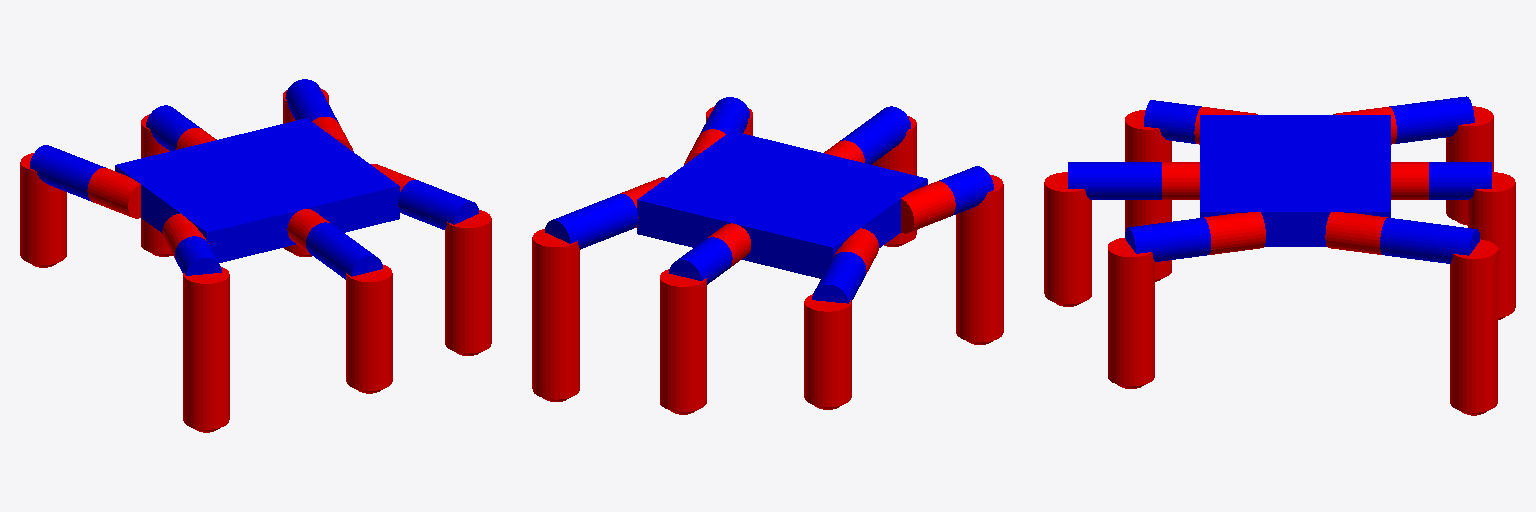
--- What the picture shows (computed from the rendered views, not written in the file) ---
3 views of the same robot in one strip: view 1: azimuth 30°, elevation 25°; view 2: azimuth 150°, elevation 25°; view 3: azimuth 270°, elevation 25° (orthographic).
Robot: pexod — 19 links, 18 joints (18 revolute); root link base_link; default pose: every joint at zero.
Links seen in each view (by area): view 1: base_link, leg_5_3, leg_3_3, leg_4_3, leg_0_3, leg_3_2, leg_4_2, leg_0_2, leg_0_1, leg_2_2, leg_5_2, leg_1_2 (+3 smaller); view 2: base_link, leg_2_3, leg_5_3, leg_1_3, leg_0_3, leg_2_2, leg_4_2, leg_5_1, leg_0_2, leg_1_2, leg_5_2, leg_4_3 (+5 smaller); view 3: base_link, leg_2_3, leg_3_3, leg_4_3, leg_1_3, leg_2_2, leg_4_2, leg_5_3, leg_3_2, leg_0_2, leg_0_3, leg_1_2 (+5 smaller).
Link boxes in pixels (left/top/right/bottom): base_link: left=115, top=118, right=399, bottom=262; leg_5_3: left=183, top=267, right=229, bottom=432; leg_3_3: left=445, top=210, right=491, bottom=355; leg_4_3: left=346, top=265, right=392, bottom=393; leg_0_3: left=20, top=153, right=66, bottom=267; leg_3_2: left=398, top=180, right=478, bottom=229; leg_4_2: left=306, top=222, right=382, bottom=279; leg_0_2: left=30, top=145, right=105, bottom=201; leg_0_1: left=87, top=168, right=140, bottom=218; leg_2_2: left=285, top=79, right=338, bottom=122; leg_5_2: left=175, top=236, right=221, bottom=275; leg_1_2: left=146, top=105, right=201, bottom=150; base_link: left=637, top=131, right=927, bottom=278; leg_2_3: left=532, top=229, right=579, bottom=401; leg_5_3: left=956, top=174, right=1003, bottom=344; leg_1_3: left=660, top=269, right=706, bottom=414; leg_0_3: left=804, top=294, right=851, bottom=409; leg_2_2: left=545, top=194, right=637, bottom=249; leg_4_2: left=840, top=106, right=910, bottom=164; leg_5_1: left=901, top=181, right=955, bottom=233; leg_0_2: left=812, top=252, right=866, bottom=303; leg_1_2: left=669, top=237, right=732, bottom=284; leg_5_2: left=939, top=166, right=993, bottom=216; leg_4_3: left=872, top=116, right=916, bottom=246; base_link: left=1200, top=115, right=1390, bottom=246; leg_2_3: left=1450, top=239, right=1497, bottom=415; leg_3_3: left=1108, top=238, right=1154, bottom=388; leg_4_3: left=1044, top=172, right=1091, bottom=306; leg_1_3: left=1468, top=172, right=1515, bottom=319; leg_2_2: left=1380, top=218, right=1479, bottom=263; leg_4_2: left=1068, top=162, right=1161, bottom=199; leg_5_3: left=1125, top=110, right=1171, bottom=281; leg_3_2: left=1125, top=218, right=1210, bottom=261; leg_0_2: left=1389, top=96, right=1474, bottom=143; leg_0_3: left=1446, top=106, right=1493, bottom=225; leg_1_2: left=1429, top=162, right=1491, bottom=199.
Bounding box of the posed robot: 0.3794 × 0.4939 × 0.2102 m (x, y, z).
Geometry: primitives only (box / cylinder / sphere), no mesh files.

URDF robot description (pexod):
<?xml version="1.0" ?>
<!-- =================================================================================== -->
<!-- |    This document was autogenerated by xacro from pexod.xacro                    | -->
<!-- |    EDITING THIS FILE BY HAND IS NOT RECOMMENDED                                 | -->
<!-- =================================================================================== -->
<robot name="pexod" xmlns:xacro="http://www.ros.org/wiki/xacro">
  <!-- <xacro:include filename="$(find pexod_description)/urdf/pexod_control.xacro" /> -->
  <!-- MATERIALS -->
  <material name="Blue">
    <color rgba="0 0 1 1"/>
  </material>
  <material name="Red">
    <color rgba="1 0 0 1"/>
  </material>
  <material name="Green">
    <color rgba="0 1 0 1"/>
  </material>
  <material name="Yellow">
    <color rgba="1 1 0 1"/>
  </material>
  <material name="LightGrey">
    <color rgba="0.6 0.6 0.6 1.0"/>
  </material>
  <!-- END OF MATERIALS -->
  <!-- XACRO MACROS FOR VISUALS AND COLLISIONS -->
  <!-- END OF XACRO MACROS -->
  <!-- TORSO -->
  <link name="base_link">
    <visual>
      <origin rpy="0 0 0" xyz="0 0 0"/>
      <geometry>
        <box size="0.24 0.2 0.04"/>
      </geometry>
      <material name="Blue"/>
    </visual>
    <collision>
      <origin rpy="0 0 0" xyz="0 0 0"/>
      <geometry>
        <box size="0.24 0.2 0.04"/>
      </geometry>
    </collision>
    <inertial>
      <!-- CENTER OF MASS -->
      <origin rpy="0 0 0" xyz="0 0 0"/>
      <mass value="1.031"/>
      <!-- box inertia: 1/12*m(y^2+z^2), ... -->
      <inertia ixx="0.00357413333333" ixy="0" ixz="0" iyy="0.00508626666667" iyz="0" izz="0.00838546666667"/>
    </inertial>
  </link>
  <!-- XACRO MACRO FOR LEGS LINKS/JOINTS -->
  <!-- END OF LEG LINKS/JOINTS -->
  <joint name="body_leg_2" type="revolute">
    <parent link="base_link"/>
    <child link="leg_2_1"/>
    <limit effort="30.0" lower="-1.57079632679" upper="1.57079632679" velocity="7.0"/>
    <origin rpy="0 0 -0.3" xyz="0.11 0.04 0"/>
    <!-- <xacro:if value="${index == 5 or index == 4 or index == 3}">
                <axis xyz="0 0 1"/>
            </xacro:if>
            <xacro:if value="${index == 2 or index == 1 or index == 0}"> -->
    <axis xyz="0 0 1"/>
    <!-- </xacro:if> -->
    <dynamics damping="0.0"/>
  </joint>
  <link name="leg_2_1">
    <visual>
      <origin rpy="1.57079632679 0 0" xyz="0.01 0.03 0"/>
      <geometry>
        <cylinder length="0.06" radius="0.02"/>
      </geometry>
      <material name="Red"/>
    </visual>
    <collision>
      <origin rpy="1.57079632679 0 0" xyz="0.01 0.03 0"/>
      <geometry>
        <box size="0.02 0.02 0.06"/>
      </geometry>
    </collision>
    <inertial>
      <!-- CENTER OF MASS -->
      <origin rpy="1.57079632679 0 0" xyz="0.01 0.03 0"/>
      <mass value="0.02"/>
      <!-- box inertia: 1/12*m(y^2+z^2), ... -->
      <inertia ixx="6.66666666667e-06" ixy="0" ixz="0" iyy="6.66666666667e-06" iyz="0" izz="1.33333333333e-06"/>
    </inertial>
  </link>
  <joint name="leg_2_1_2" type="revolute">
    <parent link="leg_2_1"/>
    <child link="leg_2_2"/>
    <limit effort="30.0" lower="-0.78539816339" upper="0.78539816339" velocity="7.0"/>
    <origin rpy="0 0 0" xyz="0 0.06 0"/>
    <axis xyz="1 0 0"/>
    <dynamics damping="0.0"/>
  </joint>
  <link name="leg_2_2">
    <visual>
      <origin rpy="1.57079632679 0 0" xyz="0.01 0.0488858331735 0"/>
      <geometry>
        <cylinder length="0.0977716663469" radius="0.02"/>
      </geometry>
      <material name="Blue"/>
    </visual>
    <collision>
      <origin rpy="1.57079632679 0 0" xyz="0.01 0.0488858331735 0"/>
      <geometry>
        <box size="0.02 0.02 0.0977716663469"/>
      </geometry>
    </collision>
    <inertial>
      <!-- CENTER OF MASS -->
      <origin rpy="1.57079632679 0 0" xyz="0.01 0.0488858331735 0"/>
      <mass value="0.184"/>
      <!-- box inertia: 1/12*m(y^2+z^2), ... -->
      <inertia ixx="0.00015270924735" ixy="0" ixz="0" iyy="0.00015270924735" iyz="0" izz="1.22666666667e-05"/>
    </inertial>
  </link>
  <joint name="leg_2_2_3" type="revolute">
    <parent link="leg_2_2"/>
    <child link="leg_2_3"/>
    <limit effort="30.0" lower="-0.78539816339" upper="0.78539816339" velocity="7.0"/>
    <origin rpy="-1.57079632679 0 0" xyz="0 0.0977716663469 0"/>
    <axis xyz="-1 0 0"/>
    <dynamics damping="0.0"/>
  </joint>
  <link name="leg_2_3">
    <visual>
      <origin rpy="1.57079632679 0 0" xyz="0.0125 0.088849349156 0"/>
      <geometry>
        <cylinder length="0.177698698312" radius="0.025"/>
      </geometry>
      <material name="Red"/>
    </visual>
    <visual>
      <origin rpy="1.57079632679 0 0" xyz="0.0125 0.165198698312 0"/>
      <geometry>
        <sphere radius="0.025"/>
      </geometry>
      <material name="Red"/>
    </visual>
    <collision>
      <origin rpy="1.57079632679 0 0" xyz="0.0125 0.088849349156 0"/>
      <geometry>
        <box size="0.025 0.025 0.177698698312"/>
      </geometry>
    </collision>
    <collision>
      <origin rpy="1.57079632679 0 0" xyz="0.0125 0.165198698312 0"/>
      <geometry>
        <sphere radius="0.025"/>
      </geometry>
      <material name="Red"/>
    </collision>
    <inertial>
      <!-- CENTER OF MASS -->
      <origin rpy="1.57079632679 0 0" xyz="0.0125 0.088849349156 0"/>
      <mass value="0.04"/>
      <!-- box inertia: 1/12*m(y^2+z^2), ... -->
      <inertia ixx="0.000107339424606" ixy="0" ixz="0" iyy="0.000107339424606" iyz="0" izz="4.16666666667e-06"/>
    </inertial>
  </link>
  <joint name="body_leg_3" type="revolute">
    <parent link="base_link"/>
    <child link="leg_3_1"/>
    <limit effort="30.0" lower="-1.57079632679" upper="1.57079632679" velocity="7.0"/>
    <origin rpy="0 0 0.3" xyz="0.11 -0.04 0"/>
    <!-- <xacro:if value="${index == 5 or index == 4 or index == 3}">
                <axis xyz="0 0 1"/>
            </xacro:if>
            <xacro:if value="${index == 2 or index == 1 or index == 0}"> -->
    <axis xyz="0 0 1"/>
    <!-- </xacro:if> -->
    <dynamics damping="0.0"/>
  </joint>
  <link name="leg_3_1">
    <visual>
      <origin rpy="1.57079632679 0 0" xyz="0.01 -0.03 0"/>
      <geometry>
        <cylinder length="0.06" radius="0.02"/>
      </geometry>
      <material name="Red"/>
    </visual>
    <collision>
      <origin rpy="1.57079632679 0 0" xyz="0.01 -0.03 0"/>
      <geometry>
        <box size="0.02 0.02 0.06"/>
      </geometry>
    </collision>
    <inertial>
      <!-- CENTER OF MASS -->
      <origin rpy="1.57079632679 0 0" xyz="0.01 -0.03 0"/>
      <mass value="0.02"/>
      <!-- box inertia: 1/12*m(y^2+z^2), ... -->
      <inertia ixx="6.66666666667e-06" ixy="0" ixz="0" iyy="6.66666666667e-06" iyz="0" izz="1.33333333333e-06"/>
    </inertial>
  </link>
  <joint name="leg_3_1_2" type="revolute">
    <parent link="leg_3_1"/>
    <child link="leg_3_2"/>
    <limit effort="30.0" lower="-0.78539816339" upper="0.78539816339" velocity="7.0"/>
    <origin rpy="0 0 0" xyz="0 -0.06 0"/>
    <axis xyz="-1 0 0"/>
    <dynamics damping="0.0"/>
  </joint>
  <link name="leg_3_2">
    <visual>
      <origin rpy="1.57079632679 0 0" xyz="0.01 -0.0412558074794 0"/>
      <geometry>
        <cylinder length="0.0825116149588" radius="0.02"/>
      </geometry>
      <material name="Blue"/>
    </visual>
    <collision>
      <origin rpy="1.57079632679 0 0" xyz="0.01 -0.0412558074794 0"/>
      <geometry>
        <box size="0.02 0.02 0.0825116149588"/>
      </geometry>
    </collision>
    <inertial>
      <!-- CENTER OF MASS -->
      <origin rpy="1.57079632679 0 0" xyz="0.01 -0.0412558074794 0"/>
      <mass value="0.184"/>
      <!-- box inertia: 1/12*m(y^2+z^2), ... -->
      <inertia ixx="0.000110525221248" ixy="0" ixz="0" iyy="0.000110525221248" iyz="0" izz="1.22666666667e-05"/>
    </inertial>
  </link>
  <joint name="leg_3_2_3" type="revolute">
    <parent link="leg_3_2"/>
    <child link="leg_3_3"/>
    <limit effort="30.0" lower="-0.78539816339" upper="0.78539816339" velocity="7.0"/>
    <origin rpy="1.57079632679 0 0" xyz="0 -0.0825116149588 0"/>
    <axis xyz="1 0 0"/>
    <dynamics damping="0.0"/>
  </joint>
  <link name="leg_3_3">
    <visual>
      <origin rpy="1.57079632679 0 0" xyz="0.0125 -0.0747047670505 0"/>
      <geometry>
        <cylinder length="0.149409534101" radius="0.025"/>
      </geometry>
      <material name="Red"/>
    </visual>
    <visual>
      <origin rpy="1.57079632679 0 0" xyz="0.0125 -0.136909534101 0"/>
      <geometry>
        <sphere radius="0.025"/>
      </geometry>
      <material name="Red"/>
    </visual>
    <collision>
      <origin rpy="1.57079632679 0 0" xyz="0.0125 -0.0747047670505 0"/>
      <geometry>
        <box size="0.025 0.025 0.149409534101"/>
      </geometry>
    </collision>
    <collision>
      <origin rpy="1.57079632679 0 0" xyz="0.0125 -0.136909534101 0"/>
      <geometry>
        <sphere radius="0.025"/>
      </geometry>
      <material name="Red"/>
    </collision>
    <inertial>
      <!-- CENTER OF MASS -->
      <origin rpy="1.57079632679 0 0" xyz="0.0125 -0.0747047670505 0"/>
      <mass value="0.04"/>
      <!-- box inertia: 1/12*m(y^2+z^2), ... -->
      <inertia ixx="7.64940296009e-05" ixy="0" ixz="0" iyy="7.64940296009e-05" iyz="0" izz="4.16666666667e-06"/>
    </inertial>
  </link>
  <joint name="body_leg_0" type="revolute">
    <parent link="base_link"/>
    <child link="leg_0_1"/>
    <limit effort="30.0" lower="-1.57079632679" upper="1.57079632679" velocity="7.0"/>
    <origin rpy="0 0 0.3" xyz="-0.13 0.04 0"/>
    <!-- <xacro:if value="${index == 5 or index == 4 or index == 3}">
                <axis xyz="0 0 1"/>
            </xacro:if>
            <xacro:if value="${index == 2 or index == 1 or index == 0}"> -->
    <axis xyz="0 0 1"/>
    <!-- </xacro:if> -->
    <dynamics damping="0.0"/>
  </joint>
  <link name="leg_0_1">
    <visual>
      <origin rpy="1.57079632679 0 0" xyz="0.01 0.03 0"/>
      <geometry>
        <cylinder length="0.06" radius="0.02"/>
      </geometry>
      <material name="Red"/>
    </visual>
    <collision>
      <origin rpy="1.57079632679 0 0" xyz="0.01 0.03 0"/>
      <geometry>
        <box size="0.02 0.02 0.06"/>
      </geometry>
    </collision>
    <inertial>
      <!-- CENTER OF MASS -->
      <origin rpy="1.57079632679 0 0" xyz="0.01 0.03 0"/>
      <mass value="0.02"/>
      <!-- box inertia: 1/12*m(y^2+z^2), ... -->
      <inertia ixx="6.66666666667e-06" ixy="0" ixz="0" iyy="6.66666666667e-06" iyz="0" izz="1.33333333333e-06"/>
    </inertial>
  </link>
  <joint name="leg_0_1_2" type="revolute">
    <parent link="leg_0_1"/>
    <child link="leg_0_2"/>
    <limit effort="30.0" lower="-0.78539816339" upper="0.78539816339" velocity="7.0"/>
    <origin rpy="0 0 0" xyz="0 0.06 0"/>
    <axis xyz="1 0 0"/>
    <dynamics damping="0.0"/>
  </joint>
  <link name="leg_0_2">
    <visual>
      <origin rpy="1.57079632679 0 0" xyz="0.01 0.0426884786921 0"/>
      <geometry>
        <cylinder length="0.0853769573841" radius="0.02"/>
      </geometry>
      <material name="Blue"/>
    </visual>
    <collision>
      <origin rpy="1.57079632679 0 0" xyz="0.01 0.0426884786921 0"/>
      <geometry>
        <box size="0.02 0.02 0.0853769573841"/>
      </geometry>
    </collision>
    <inertial>
      <!-- CENTER OF MASS -->
      <origin rpy="1.57079632679 0 0" xyz="0.01 0.0426884786921 0"/>
      <mass value="0.184"/>
      <!-- box inertia: 1/12*m(y^2+z^2), ... -->
      <inertia ixx="0.000117901447733" ixy="0" ixz="0" iyy="0.000117901447733" iyz="0" izz="1.22666666667e-05"/>
    </inertial>
  </link>
  <joint name="leg_0_2_3" type="revolute">
    <parent link="leg_0_2"/>
    <child link="leg_0_3"/>
    <limit effort="30.0" lower="-0.78539816339" upper="0.78539816339" velocity="7.0"/>
    <origin rpy="-1.57079632679 0 0" xyz="0 0.0853769573841 0"/>
    <axis xyz="-1 0 0"/>
    <dynamics damping="0.0"/>
  </joint>
  <link name="leg_0_3">
    <visual>
      <origin rpy="1.57079632679 0 0" xyz="0.0125 0.0557906659185 0"/>
      <geometry>
        <cylinder length="0.111581331837" radius="0.025"/>
      </geometry>
      <material name="Red"/>
    </visual>
    <visual>
      <origin rpy="1.57079632679 0 0" xyz="0.0125 0.099081331837 0"/>
      <geometry>
        <sphere radius="0.025"/>
      </geometry>
      <material name="Red"/>
    </visual>
    <collision>
      <origin rpy="1.57079632679 0 0" xyz="0.0125 0.0557906659185 0"/>
      <geometry>
        <box size="0.025 0.025 0.111581331837"/>
      </geometry>
    </collision>
    <collision>
      <origin rpy="1.57079632679 0 0" xyz="0.0125 0.099081331837 0"/>
      <geometry>
        <sphere radius="0.025"/>
      </geometry>
      <material name="Red"/>
    </collision>
    <inertial>
      <!-- CENTER OF MASS -->
      <origin rpy="1.57079632679 0 0" xyz="0.0125 0.0557906659185 0"/>
      <mass value="0.04"/>
      <!-- box inertia: 1/12*m(y^2+z^2), ... -->
      <inertia ixx="4.35846453817e-05" ixy="0" ixz="0" iyy="4.35846453817e-05" iyz="0" izz="4.16666666667e-06"/>
    </inertial>
  </link>
  <joint name="body_leg_5" type="revolute">
    <parent link="base_link"/>
    <child link="leg_5_1"/>
    <limit effort="30.0" lower="-1.57079632679" upper="1.57079632679" velocity="7.0"/>
    <origin rpy="0 0 -0.3" xyz="-0.13 -0.04 0"/>
    <!-- <xacro:if value="${index == 5 or index == 4 or index == 3}">
                <axis xyz="0 0 1"/>
            </xacro:if>
            <xacro:if value="${index == 2 or index == 1 or index == 0}"> -->
    <axis xyz="0 0 1"/>
    <!-- </xacro:if> -->
    <dynamics damping="0.0"/>
  </joint>
  <link name="leg_5_1">
    <visual>
      <origin rpy="1.57079632679 0 0" xyz="0.01 -0.03 0"/>
      <geometry>
        <cylinder length="0.06" radius="0.02"/>
      </geometry>
      <material name="Red"/>
    </visual>
    <collision>
      <origin rpy="1.57079632679 0 0" xyz="0.01 -0.03 0"/>
      <geometry>
        <box size="0.02 0.02 0.06"/>
      </geometry>
    </collision>
    <inertial>
      <!-- CENTER OF MASS -->
      <origin rpy="1.57079632679 0 0" xyz="0.01 -0.03 0"/>
      <mass value="0.02"/>
      <!-- box inertia: 1/12*m(y^2+z^2), ... -->
      <inertia ixx="6.66666666667e-06" ixy="0" ixz="0" iyy="6.66666666667e-06" iyz="0" izz="1.33333333333e-06"/>
    </inertial>
  </link>
  <joint name="leg_5_1_2" type="revolute">
    <parent link="leg_5_1"/>
    <child link="leg_5_2"/>
    <limit effort="30.0" lower="-0.78539816339" upper="0.78539816339" velocity="7.0"/>
    <origin rpy="0 0 0" xyz="0 -0.06 0"/>
    <axis xyz="-1 0 0"/>
    <dynamics damping="0.0"/>
  </joint>
  <link name="leg_5_2">
    <visual>
      <origin rpy="1.57079632679 0 0" xyz="0.01 -0.0278583572519 0"/>
      <geometry>
        <cylinder length="0.0557167145038" radius="0.02"/>
      </geometry>
      <material name="Blue"/>
    </visual>
    <collision>
      <origin rpy="1.57079632679 0 0" xyz="0.01 -0.0278583572519 0"/>
      <geometry>
        <box size="0.02 0.02 0.0557167145038"/>
      </geometry>
    </collision>
    <inertial>
      <!-- CENTER OF MASS -->
      <origin rpy="1.57079632679 0 0" xyz="0.01 -0.0278583572519 0"/>
      <mass value="0.184"/>
      <!-- box inertia: 1/12*m(y^2+z^2), ... -->
      <inertia ixx="5.37334015515e-05" ixy="0" ixz="0" iyy="5.37334015515e-05" iyz="0" izz="1.22666666667e-05"/>
    </inertial>
  </link>
  <joint name="leg_5_2_3" type="revolute">
    <parent link="leg_5_2"/>
    <child link="leg_5_3"/>
    <limit effort="30.0" lower="-0.78539816339" upper="0.78539816339" velocity="7.0"/>
    <origin rpy="1.57079632679 0 0" xyz="0 -0.0557167145038 0"/>
    <axis xyz="1 0 0"/>
    <dynamics damping="0.0"/>
  </joint>
  <link name="leg_5_3">
    <visual>
      <origin rpy="1.57079632679 0 0" xyz="0.0125 -0.0870245914585 0"/>
      <geometry>
        <cylinder length="0.174049182917" radius="0.025"/>
      </geometry>
      <material name="Red"/>
    </visual>
    <visual>
      <origin rpy="1.57079632679 0 0" xyz="0.0125 -0.161549182917 0"/>
      <geometry>
        <sphere radius="0.025"/>
      </geometry>
      <material name="Red"/>
    </visual>
    <collision>
      <origin rpy="1.57079632679 0 0" xyz="0.0125 -0.0870245914585 0"/>
      <geometry>
        <box size="0.025 0.025 0.174049182917"/>
      </geometry>
    </collision>
    <collision>
      <origin rpy="1.57079632679 0 0" xyz="0.0125 -0.161549182917 0"/>
      <geometry>
        <sphere radius="0.025"/>
      </geometry>
      <material name="Red"/>
    </collision>
    <inertial>
      <!-- CENTER OF MASS -->
      <origin rpy="1.57079632679 0 0" xyz="0.0125 -0.0870245914585 0"/>
      <mass value="0.04"/>
      <!-- box inertia: 1/12*m(y^2+z^2), ... -->
      <inertia ixx="0.00010306039358" ixy="0" ixz="0" iyy="0.00010306039358" iyz="0" izz="4.16666666667e-06"/>
    </inertial>
  </link>
  <joint name="body_leg_1" type="revolute">
    <parent link="base_link"/>
    <child link="leg_1_1"/>
    <limit effort="30.0" lower="-1.57079632679" upper="1.57079632679" velocity="7.0"/>
    <origin rpy="0 0 0" xyz="-0.01 0.08 0"/>
    <!-- <xacro:if value="${index == 5 or index == 4 or index == 3}">
                <axis xyz="0 0 1"/>
            </xacro:if>
            <xacro:if value="${index == 2 or index == 1 or index == 0}"> -->
    <axis xyz="0 0 1"/>
    <!-- </xacro:if> -->
    <dynamics damping="0.0"/>
  </joint>
  <link name="leg_1_1">
    <visual>
      <origin rpy="1.57079632679 0 0" xyz="0.01 0.03 0"/>
      <geometry>
        <cylinder length="0.06" radius="0.02"/>
      </geometry>
      <material name="Red"/>
    </visual>
    <collision>
      <origin rpy="1.57079632679 0 0" xyz="0.01 0.03 0"/>
      <geometry>
        <box size="0.02 0.02 0.06"/>
      </geometry>
    </collision>
    <inertial>
      <!-- CENTER OF MASS -->
      <origin rpy="1.57079632679 0 0" xyz="0.01 0.03 0"/>
      <mass value="0.02"/>
      <!-- box inertia: 1/12*m(y^2+z^2), ... -->
      <inertia ixx="6.66666666667e-06" ixy="0" ixz="0" iyy="6.66666666667e-06" iyz="0" izz="1.33333333333e-06"/>
    </inertial>
  </link>
  <joint name="leg_1_1_2" type="revolute">
    <parent link="leg_1_1"/>
    <child link="leg_1_2"/>
    <limit effort="30.0" lower="-0.78539816339" upper="0.78539816339" velocity="7.0"/>
    <origin rpy="0 0 0" xyz="0 0.06 0"/>
    <axis xyz="1 0 0"/>
    <dynamics damping="0.0"/>
  </joint>
  <link name="leg_1_2">
    <visual>
      <origin rpy="1.57079632679 0 0" xyz="0.01 0.0327328477378 0"/>
      <geometry>
        <cylinder length="0.0654656954755" radius="0.02"/>
      </geometry>
      <material name="Blue"/>
    </visual>
    <collision>
      <origin rpy="1.57079632679 0 0" xyz="0.01 0.0327328477378 0"/>
      <geometry>
        <box size="0.02 0.02 0.0654656954755"/>
      </geometry>
    </collision>
    <inertial>
      <!-- CENTER OF MASS -->
      <origin rpy="1.57079632679 0 0" xyz="0.01 0.0327328477378 0"/>
      <mass value="0.184"/>
      <!-- box inertia: 1/12*m(y^2+z^2), ... -->
      <inertia ixx="7.18482783561e-05" ixy="0" ixz="0" iyy="7.18482783561e-05" iyz="0" izz="1.22666666667e-05"/>
    </inertial>
  </link>
  <joint name="leg_1_2_3" type="revolute">
    <parent link="leg_1_2"/>
    <child link="leg_1_3"/>
    <limit effort="30.0" lower="-0.78539816339" upper="0.78539816339" velocity="7.0"/>
    <origin rpy="-1.57079632679 0 0" xyz="0 0.0654656954755 0"/>
    <axis xyz="-1 0 0"/>
    <dynamics damping="0.0"/>
  </joint>
  <link name="leg_1_3">
    <visual>
      <origin rpy="1.57079632679 0 0" xyz="0.0125 0.0730329366555 0"/>
      <geometry>
        <cylinder length="0.146065873311" radius="0.025"/>
      </geometry>
      <material name="Red"/>
    </visual>
    <visual>
      <origin rpy="1.57079632679 0 0" xyz="0.0125 0.133565873311 0"/>
      <geometry>
        <sphere radius="0.025"/>
      </geometry>
      <material name="Red"/>
    </visual>
    <collision>
      <origin rpy="1.57079632679 0 0" xyz="0.0125 0.0730329366555 0"/>
      <geometry>
        <box size="0.025 0.025 0.146065873311"/>
      </geometry>
    </collision>
    <collision>
      <origin rpy="1.57079632679 0 0" xyz="0.0125 0.133565873311 0"/>
      <geometry>
        <sphere radius="0.025"/>
      </geometry>
      <material name="Red"/>
    </collision>
    <inertial>
      <!-- CENTER OF MASS -->
      <origin rpy="1.57079632679 0 0" xyz="0.0125 0.0730329366555 0"/>
      <mass value="0.04"/>
      <!-- box inertia: 1/12*m(y^2+z^2), ... -->
      <inertia ixx="7.32007978204e-05" ixy="0" ixz="0" iyy="7.32007978204e-05" iyz="0" izz="4.16666666667e-06"/>
    </inertial>
  </link>
  <joint name="body_leg_4" type="revolute">
    <parent link="base_link"/>
    <child link="leg_4_1"/>
    <limit effort="30.0" lower="-1.57079632679" upper="1.57079632679" velocity="7.0"/>
    <origin rpy="0 0 0" xyz="-0.01 -0.08 0"/>
    <!-- <xacro:if value="${index == 5 or index == 4 or index == 3}">
                <axis xyz="0 0 1"/>
            </xacro:if>
            <xacro:if value="${index == 2 or index == 1 or index == 0}"> -->
    <axis xyz="0 0 1"/>
    <!-- </xacro:if> -->
    <dynamics damping="0.0"/>
  </joint>
  <link name="leg_4_1">
    <visual>
      <origin rpy="1.57079632679 0 0" xyz="0.01 -0.03 0"/>
      <geometry>
        <cylinder length="0.06" radius="0.02"/>
      </geometry>
      <material name="Red"/>
    </visual>
    <collision>
      <origin rpy="1.57079632679 0 0" xyz="0.01 -0.03 0"/>
      <geometry>
        <box size="0.02 0.02 0.06"/>
      </geometry>
    </collision>
    <inertial>
      <!-- CENTER OF MASS -->
      <origin rpy="1.57079632679 0 0" xyz="0.01 -0.03 0"/>
      <mass value="0.02"/>
      <!-- box inertia: 1/12*m(y^2+z^2), ... -->
      <inertia ixx="6.66666666667e-06" ixy="0" ixz="0" iyy="6.66666666667e-06" iyz="0" izz="1.33333333333e-06"/>
    </inertial>
  </link>
  <joint name="leg_4_1_2" type="revolute">
    <parent link="leg_4_1"/>
    <child link="leg_4_2"/>
    <limit effort="30.0" lower="-0.78539816339" upper="0.78539816339" velocity="7.0"/>
    <origin rpy="0 0 0" xyz="0 -0.06 0"/>
    <axis xyz="-1 0 0"/>
    <dynamics damping="0.0"/>
  </joint>
  <link name="leg_4_2">
    <visual>
      <origin rpy="1.57079632679 0 0" xyz="0.01 -0.0492113042844 0"/>
      <geometry>
        <cylinder length="0.0984226085688" radius="0.02"/>
      </geometry>
      <material name="Blue"/>
    </visual>
    <collision>
      <origin rpy="1.57079632679 0 0" xyz="0.01 -0.0492113042844 0"/>
      <geometry>
        <box size="0.02 0.02 0.0984226085688"/>
      </geometry>
    </collision>
    <inertial>
      <!-- CENTER OF MASS -->
      <origin rpy="1.57079632679 0 0" xyz="0.01 -0.0492113042844 0"/>
      <mass value="0.184"/>
      <!-- box inertia: 1/12*m(y^2+z^2), ... -->
      <inertia ixx="0.000154667484788" ixy="0" ixz="0" iyy="0.000154667484788" iyz="0" izz="1.22666666667e-05"/>
    </inertial>
  </link>
  <joint name="leg_4_2_3" type="revolute">
    <parent link="leg_4_2"/>
    <child link="leg_4_3"/>
    <limit effort="30.0" lower="-0.78539816339" upper="0.78539816339" velocity="7.0"/>
    <origin rpy="1.57079632679 0 0" xyz="0 -0.0984226085688 0"/>
    <axis xyz="1 0 0"/>
    <dynamics damping="0.0"/>
  </joint>
  <link name="leg_4_3">
    <visual>
      <origin rpy="1.57079632679 0 0" xyz="0.0125 -0.064880608008 0"/>
      <geometry>
        <cylinder length="0.129761216016" radius="0.025"/>
      </geometry>
      <material name="Red"/>
    </visual>
    <visual>
      <origin rpy="1.57079632679 0 0" xyz="0.0125 -0.117261216016 0"/>
      <geometry>
        <sphere radius="0.025"/>
      </geometry>
      <material name="Red"/>
    </visual>
    <collision>
      <origin rpy="1.57079632679 0 0" xyz="0.0125 -0.064880608008 0"/>
      <geometry>
        <box size="0.025 0.025 0.129761216016"/>
      </geometry>
    </collision>
    <collision>
      <origin rpy="1.57079632679 0 0" xyz="0.0125 -0.117261216016 0"/>
      <geometry>
        <sphere radius="0.025"/>
      </geometry>
      <material name="Red"/>
    </collision>
    <inertial>
      <!-- CENTER OF MASS -->
      <origin rpy="1.57079632679 0 0" xyz="0.0125 -0.064880608008 0"/>
      <mass value="0.04"/>
      <!-- box inertia: 1/12*m(y^2+z^2), ... -->
      <inertia ixx="5.82099106065e-05" ixy="0" ixz="0" iyy="5.82099106065e-05" iyz="0" izz="4.16666666667e-06"/>
    </inertial>
  </link>
  <!-- END OF LEG LINKS/JOINTS -->
</robot>
